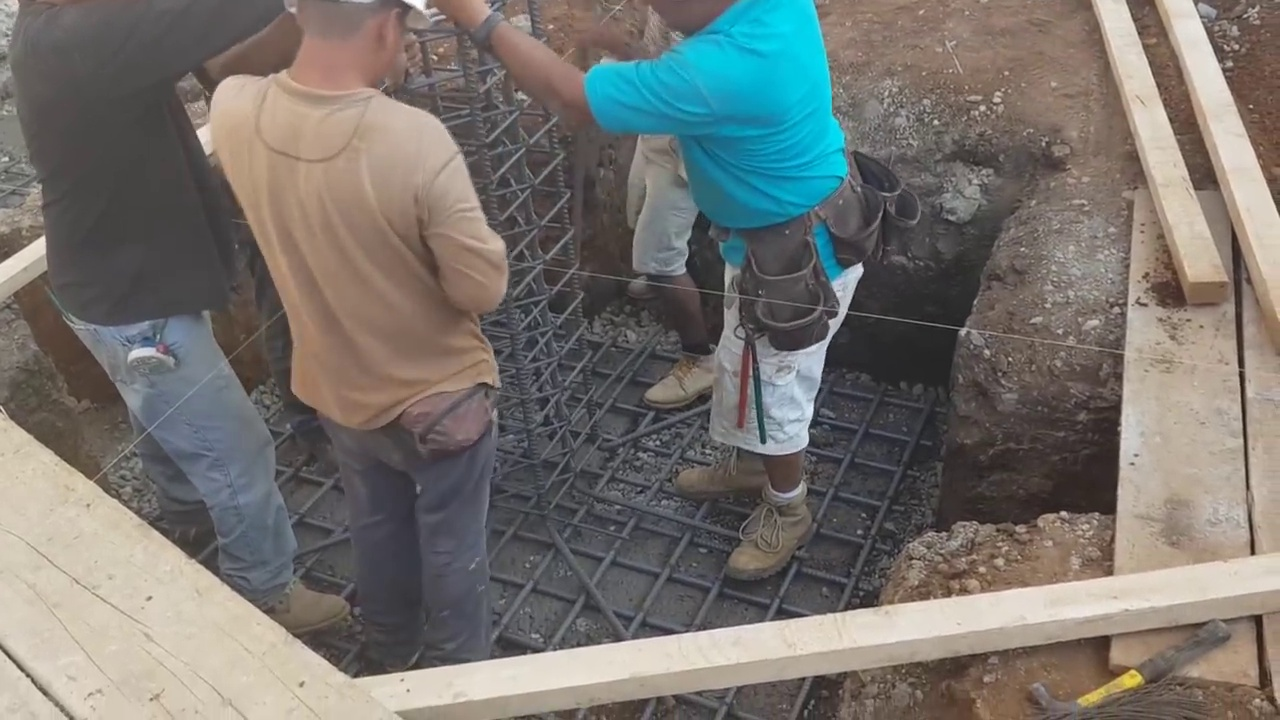person: (432, 0, 886, 590), (5, 0, 346, 626), (218, 0, 508, 645), (571, 6, 730, 417)
